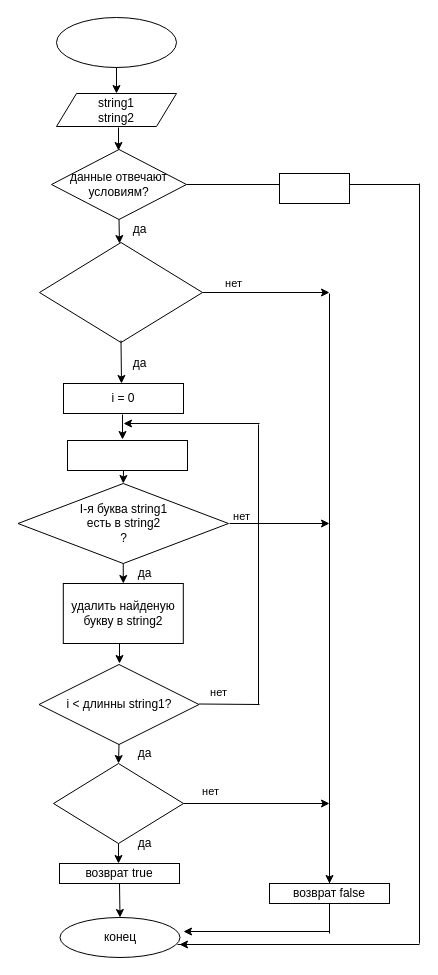
Some shapes in this 438 by 975 pixel diagram are drawn without their labels. The shapes that lost their labels are listed below. From the top down, each one's box as (x1, y1, x2, y2) in pixels, then its label:
(56, 16, 176, 68): начало
(278, 172, 350, 204): error
(38, 242, 202, 342): string1 b и string2 одной длинны?
(66, 440, 188, 470): i = i + 1
(52, 762, 184, 844): string2 - пустая строка?
